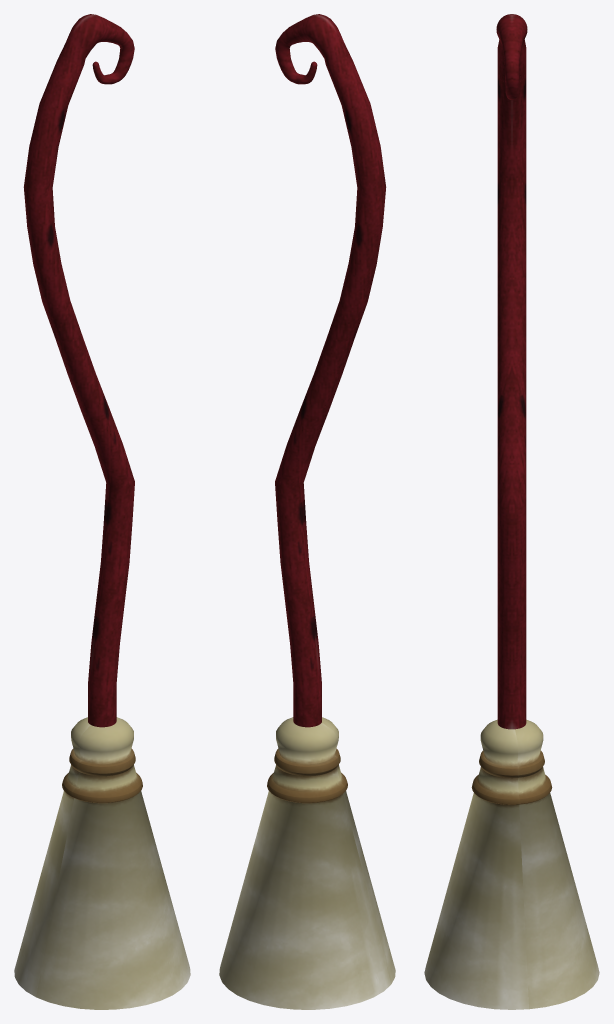
The model's file is Vassoura 3.fbx.
3 renders of one model, left to right at view 1: azimuth 30°, elevation 25°; view 2: azimuth 150°, elevation 25°; view 3: azimuth 270°, elevation 25°, orthographic.
Visible parts, largest first — view 1: 3; view 2: 3; view 3: 3.
Part boxes in pixels (left/top/right/bottom): 3: left=14, top=14, right=190, bottom=1009; 3: left=219, top=14, right=395, bottom=1009; 3: left=424, top=14, right=599, bottom=1009.
Bounding box in the file's own units: 23.09 × 138 × 23.07.
